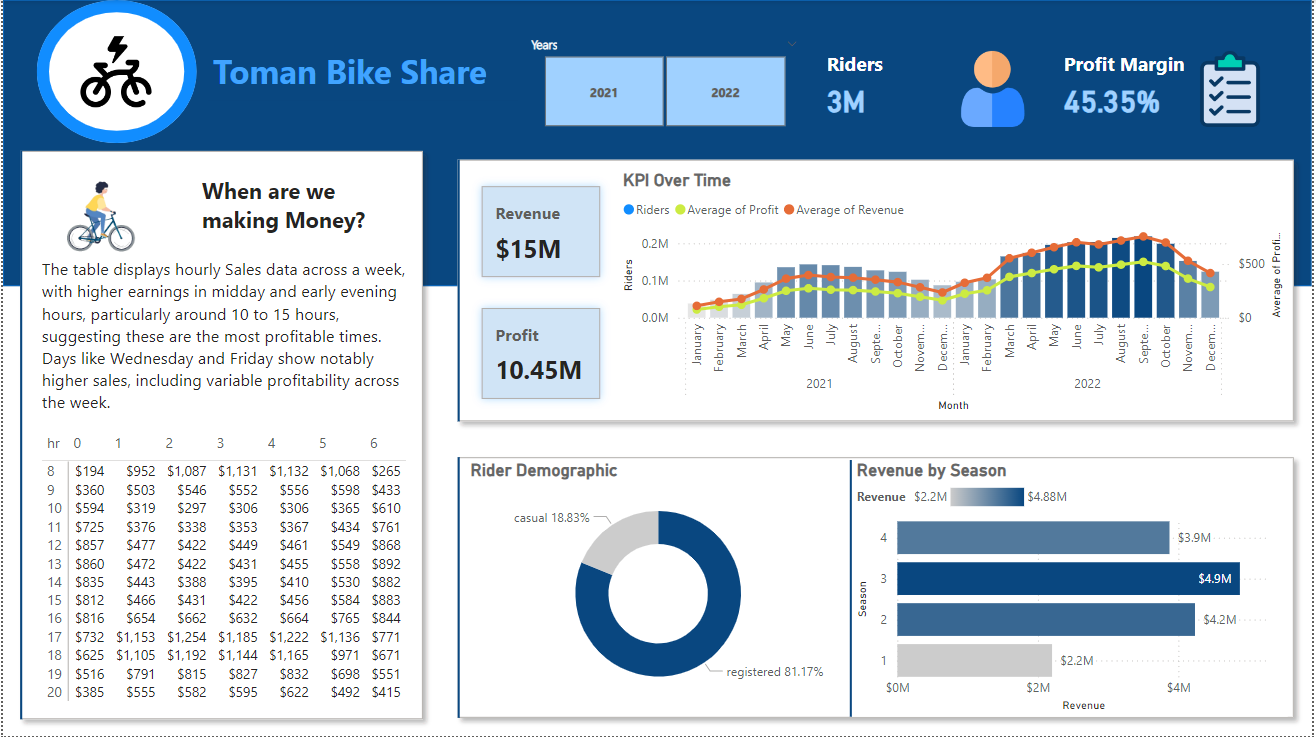

What the dashboard file says about the page in this screenshot:
{"tool":"powerbi","page":{"name":"Page 1","canvas":[1280,720],"ordinal":0},"visuals":[{"type":"shape","box":[0,0,1280.3,279.9],"z":0},{"type":"cardVisual","fields":{"Data":["Sum(view_BikeData.riders)"]},"box":[0,130.4,428.1,590.1],"z":1000},{"type":"cardVisual","fields":{"Data":["Sum(view_BikeData.riders)"]},"box":[428.1,430.9,852.1,289.5],"z":2000},{"type":"cardVisual","fields":{"Data":["Sum(view_BikeData.riders)"]},"box":[428.1,140,852.1,290.9],"z":3000},{"type":"cardVisual","fields":{"Data":["Sum(view_BikeData.riders)"]},"box":[32.9,150.9,134.5,112.5],"z":4000},{"type":"pivotTable","fields":{"Rows":["view_BikeData.hr"],"Values":["Avg(view_BikeData.Revenue)"],"Columns":["view_BikeData.weekday"]},"box":[32.9,419.9,370.5,273.1],"z":5000},{"type":"textbox","box":[189.4,166,214.1,81],"z":6000},{"type":"textbox","box":[32.9,247,370.5,172.9],"z":7000},{"type":"lineClusteredColumnComboChart","title":"KPI Over Time","fields":{"Y":["Sum(view_BikeData.riders)"],"Category":["view_BikeData.Date.Variation.Date Hierarchy.Year","view_BikeData.Date.Variation.Date Hierarchy.Month","view_BikeData.Date.Variation.Date Hierarchy.Day"],"Y2":["Avg(view_BikeData.Profit)","Avg(view_BikeData.Revenue)"]},"box":[601,166,655.9,241.5],"z":8000},{"type":"clusteredBarChart","fields":{"Category":["view_BikeData.Season"],"Y":["Sum(view_BikeData.Revenue)"]},"box":[830.2,450.1,426.8,251.1],"z":9000},{"type":"donutChart","title":"Rider Demographic","fields":{"Category":["view_BikeData.rider_type"],"Y":["Sum(view_BikeData.riders)"]},"box":[452.8,450.1,377.4,242.9],"z":10000},{"type":"shape","box":[742.4,450.1,174.3,251.1],"z":11000},{"type":"cardVisual","title":"KPI Over Time","fields":{"Data":["Sum(view_BikeData.Revenue)","Sum(view_BikeData.Profit)"]},"box":[452.8,166,148.2,241.5],"z":12000},{"type":"cardVisual","fields":{"Data":["Sum(view_BikeData.riders)","view_BikeData.Profit Margin"]},"box":[789,32.9,467.9,107],"z":13000},{"type":"shape","box":[32.9,0,156.4,140],"z":14000},{"type":"image","box":[71.4,30.2,79.6,79.6],"z":15000},{"type":"textbox","box":[200.3,42.5,303.3,54.9],"z":16000},{"type":"slicer","fields":{"Values":["view_BikeData.Years"]},"box":[503.6,30.2,285.4,100.2],"z":17000}]}

Visuals, with their boxes in screenshot pixels (x1, y1, x2, y2), scaled from the page's 1280x720 canvas onto the 1316x737 screenshot:
shape: [x1=0, y1=0, x2=1315, y2=287]
cardVisual - Sum(view_BikeData.riders): [x1=0, y1=133, x2=440, y2=736]
cardVisual - Sum(view_BikeData.riders): [x1=440, y1=441, x2=1315, y2=736]
cardVisual - Sum(view_BikeData.riders): [x1=440, y1=143, x2=1315, y2=441]
cardVisual - Sum(view_BikeData.riders): [x1=34, y1=154, x2=172, y2=270]
pivotTable - view_BikeData.hr x Avg(view_BikeData.Revenue): [x1=34, y1=430, x2=415, y2=709]
textbox: [x1=195, y1=170, x2=415, y2=253]
textbox: [x1=34, y1=253, x2=415, y2=430]
"KPI Over Time" lineClusteredColumnComboChart: [x1=618, y1=170, x2=1292, y2=417]
clusteredBarChart - view_BikeData.Season x Sum(view_BikeData.Revenue): [x1=854, y1=461, x2=1292, y2=718]
"Rider Demographic" donutChart: [x1=466, y1=461, x2=854, y2=709]
shape: [x1=763, y1=461, x2=942, y2=718]
"KPI Over Time" cardVisual: [x1=466, y1=170, x2=618, y2=417]
cardVisual - Sum(view_BikeData.riders) x view_BikeData.Profit Margin: [x1=811, y1=34, x2=1292, y2=143]
shape: [x1=34, y1=0, x2=195, y2=143]
image: [x1=73, y1=31, x2=155, y2=112]
textbox: [x1=206, y1=44, x2=518, y2=100]
slicer - view_BikeData.Years: [x1=518, y1=31, x2=811, y2=133]
